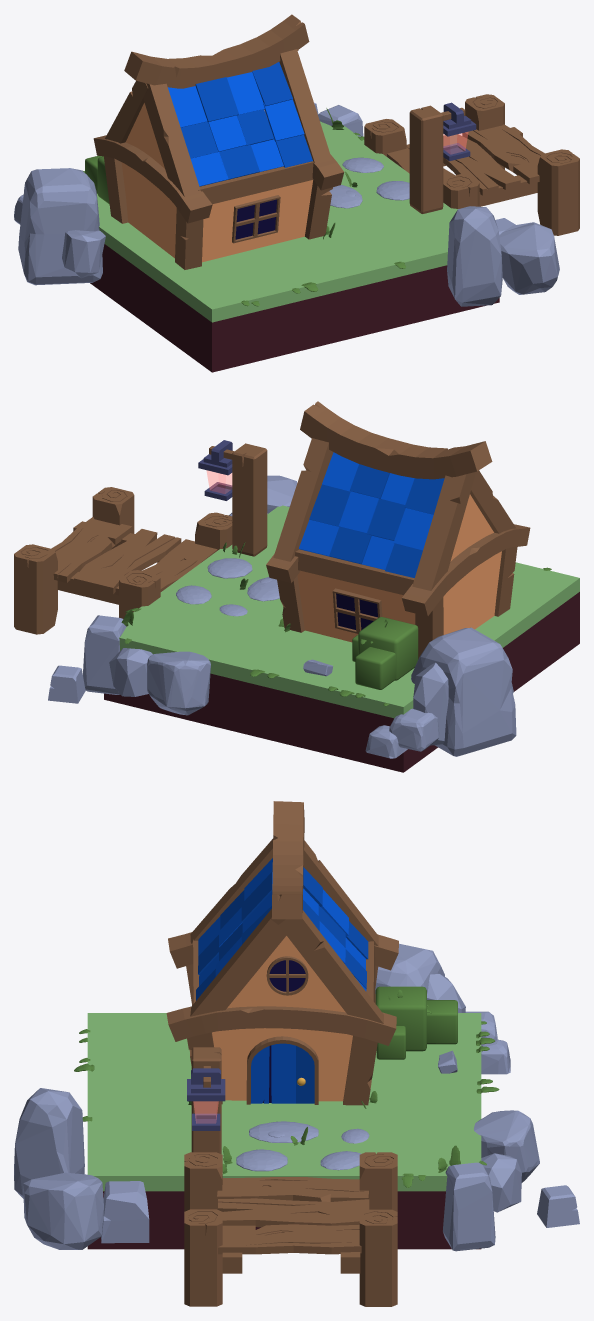
Rendered from casa.glb.
3 renders of one model, top to bottom at view 1: azimuth 30°, elevation 25°; view 2: azimuth 150°, elevation 25°; view 3: azimuth 270°, elevation 25°, orthographic. The views are drawn at different scales.
Visible parts, largest first — view 1: Base, PAREDES, Cubo.056, Cubo.004, Cubo.103, Cubo.102, Cubo.046, Cubo.045, Cubo.007, Cubo.026, Cubo.038, Cubo.008 (+30 smaller); view 2: Base, Cubo.056, PAREDES, Cubo.004, Cubo.046, Cubo, Cubo.055, Cubo.006, Cubo.041, Cubo.026, Cubo.005, Cubo.038 (+37 smaller); view 3: Base, PAREDES, Cubo.103, Cubo.102, Cubo.001, puerta, Cubo.052, Cubo.038, Cubo, Cubo.005, Cubo.045, Cubo.041 (+26 smaller).
Part boxes in pixels (left/top/right/bottom): Base: left=90, top=121, right=499, bottom=372; PAREDES: left=121, top=103, right=312, bottom=262; Cubo.056: left=18, top=168, right=102, bottom=285; Cubo.004: left=124, top=14, right=309, bottom=88; Cubo.103: left=447, top=206, right=502, bottom=306; Cubo.102: left=499, top=222, right=559, bottom=294; Cubo.046: left=409, top=105, right=443, bottom=213; Cubo.045: left=537, top=149, right=579, bottom=235; Cubo.007: left=143, top=83, right=201, bottom=196; Cubo.026: left=93, top=135, right=212, bottom=223; Cubo.038: left=462, top=124, right=544, bottom=184; Cubo.008: left=279, top=49, right=331, bottom=163; Base: left=104, top=505, right=579, bottom=772; Cubo.056: left=411, top=627, right=516, bottom=756; PAREDES: left=297, top=494, right=501, bottom=642; Cubo.004: left=300, top=401, right=492, bottom=479; Cubo.046: left=232, top=443, right=267, bottom=556; Cubo: left=14, top=544, right=57, bottom=634; Cubo.055: left=147, top=651, right=210, bottom=715; Cubo.006: left=412, top=472, right=475, bottom=590; Cubo.041: left=74, top=529, right=181, bottom=594; Cubo.026: left=402, top=524, right=530, bottom=616; Cubo.005: left=273, top=438, right=333, bottom=561; Cubo.038: left=51, top=517, right=132, bottom=582; Base: left=87, top=1013, right=481, bottom=1249; PAREDES: left=212, top=936, right=352, bottom=1101; Cubo.103: left=14, top=1088, right=84, bottom=1198; Cubo.102: left=23, top=1172, right=103, bottom=1249; Cubo.001: left=166, top=1006, right=396, bottom=1045; puerta: left=246, top=1036, right=318, bottom=1104; Cubo.052: left=443, top=1162, right=495, bottom=1251; Cubo.038: left=218, top=1224, right=361, bottom=1254; Cubo: left=359, top=1209, right=397, bottom=1306; Cubo.005: left=271, top=910, right=383, bottom=1023; Cubo.045: left=184, top=1209, right=222, bottom=1306; Cubo.041: left=218, top=1198, right=369, bottom=1227.
Size of the model in its own units: 21.34 by 10.61 by 18.69.
